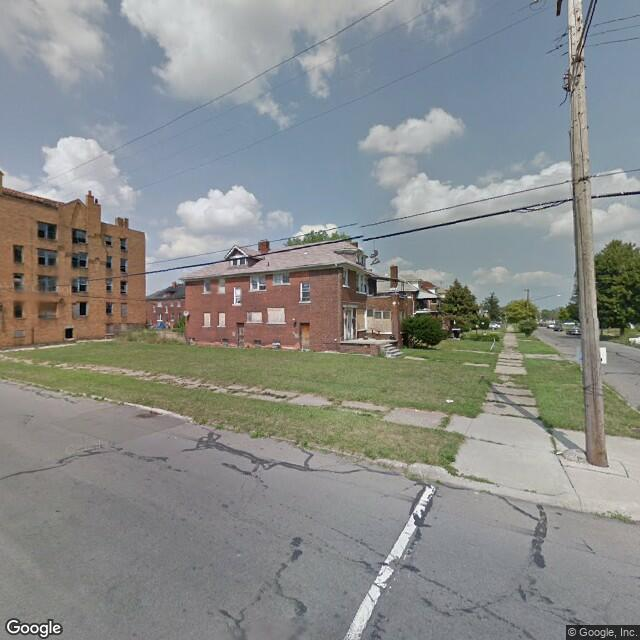litter: (442, 397, 457, 405)
